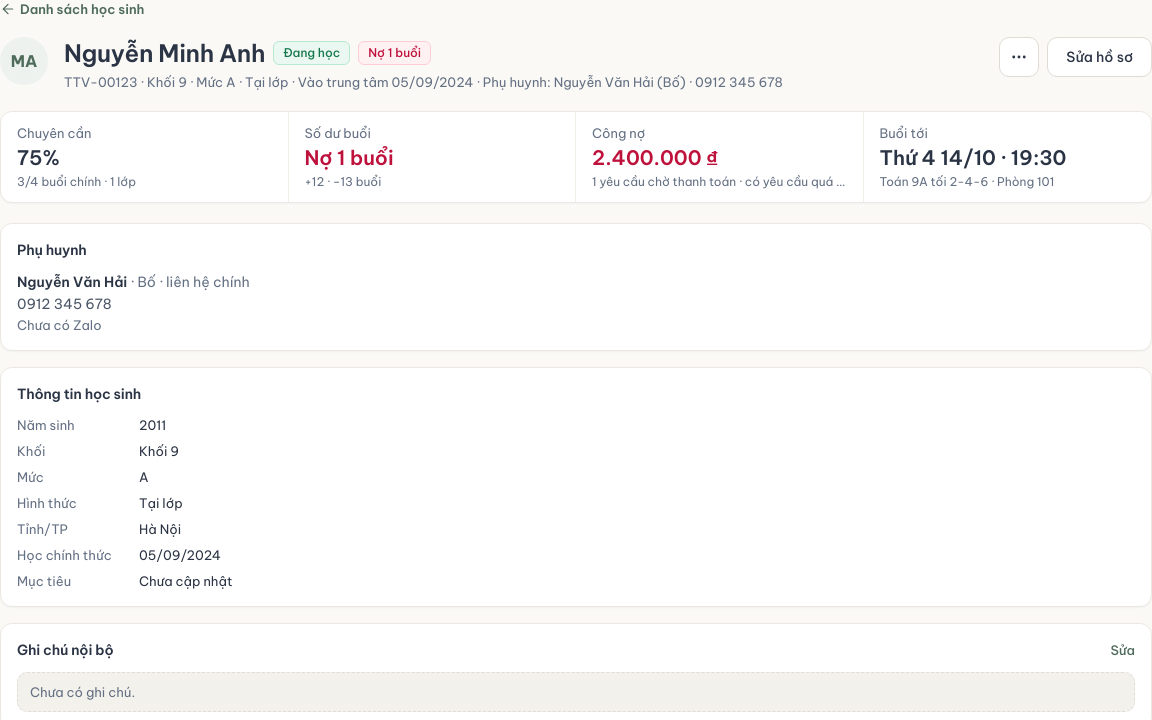
Test case: Student profile interactions (design 05) › submits Bảo lưu from the profile, keeps an error in the dialog and announces success in the header
This screenshot has width=1152, height=720.
Click the button named "Thêm hành động".
click(1019, 57)  # box [999,37,1039,77]
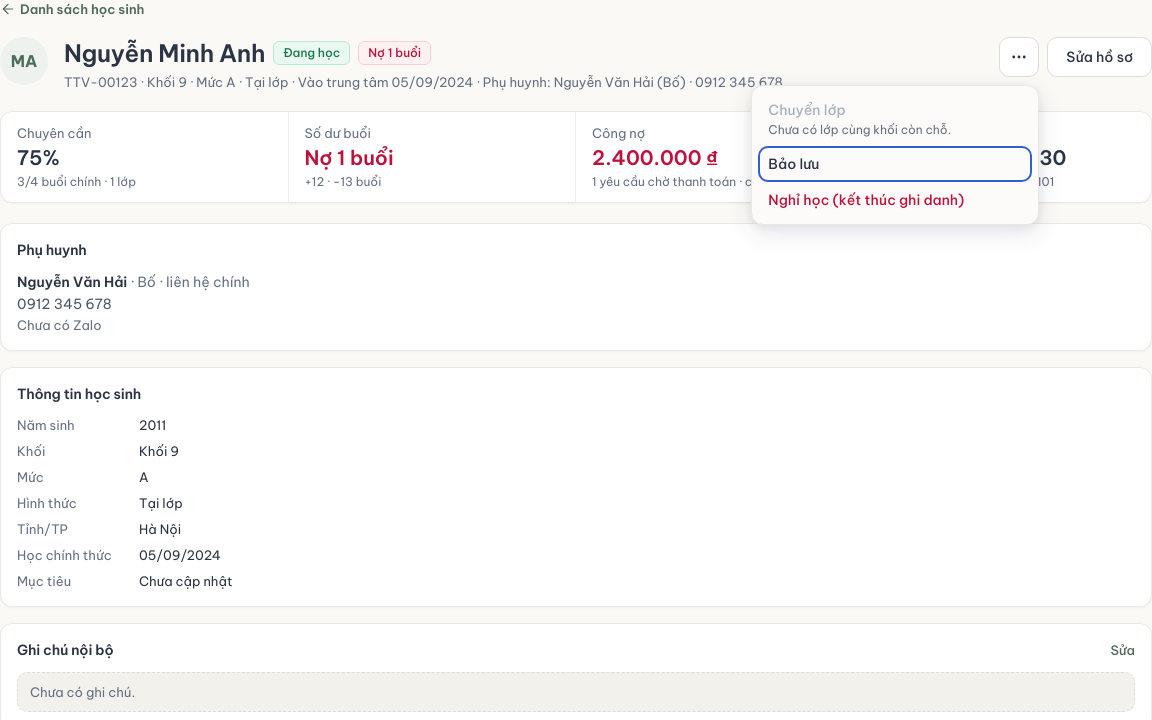
Click the menu item "Bảo lưu".
click(794, 164)  # box [758,146,1032,182]
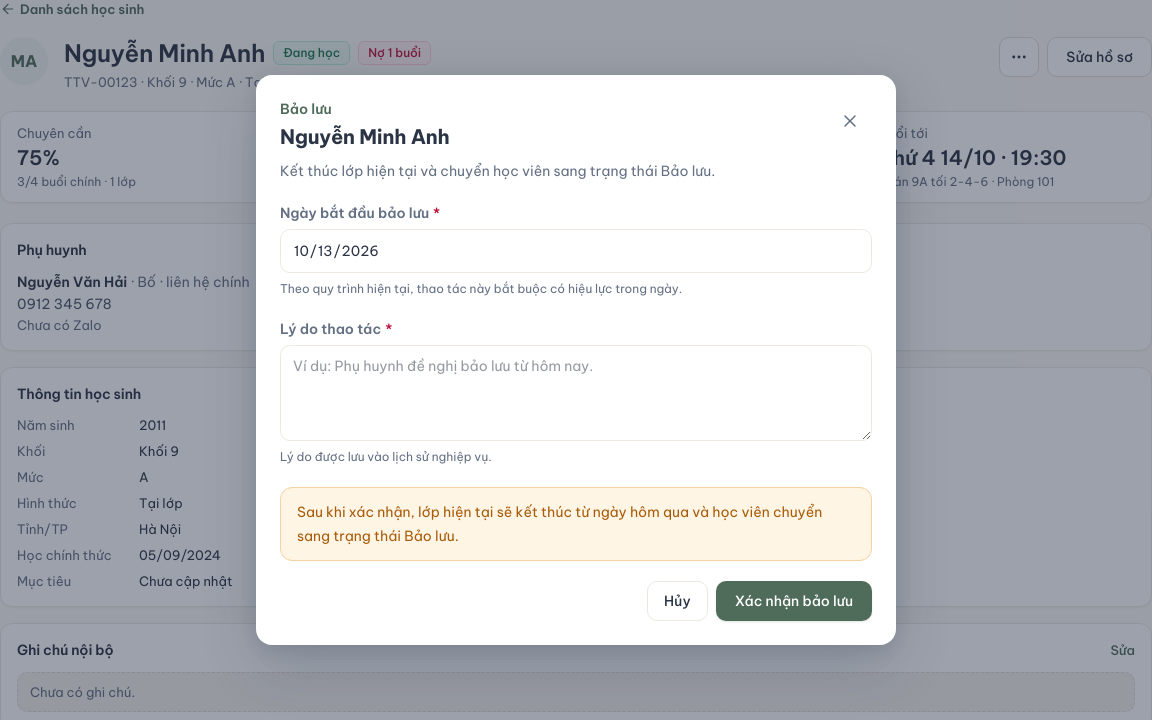
Type "Gia đình đi xa 2 tháng" into the text box labelled "Lý do thao tác*".
click(576, 393); type("Gia đình đi xa 2 tháng")  # box [280,345,872,441]
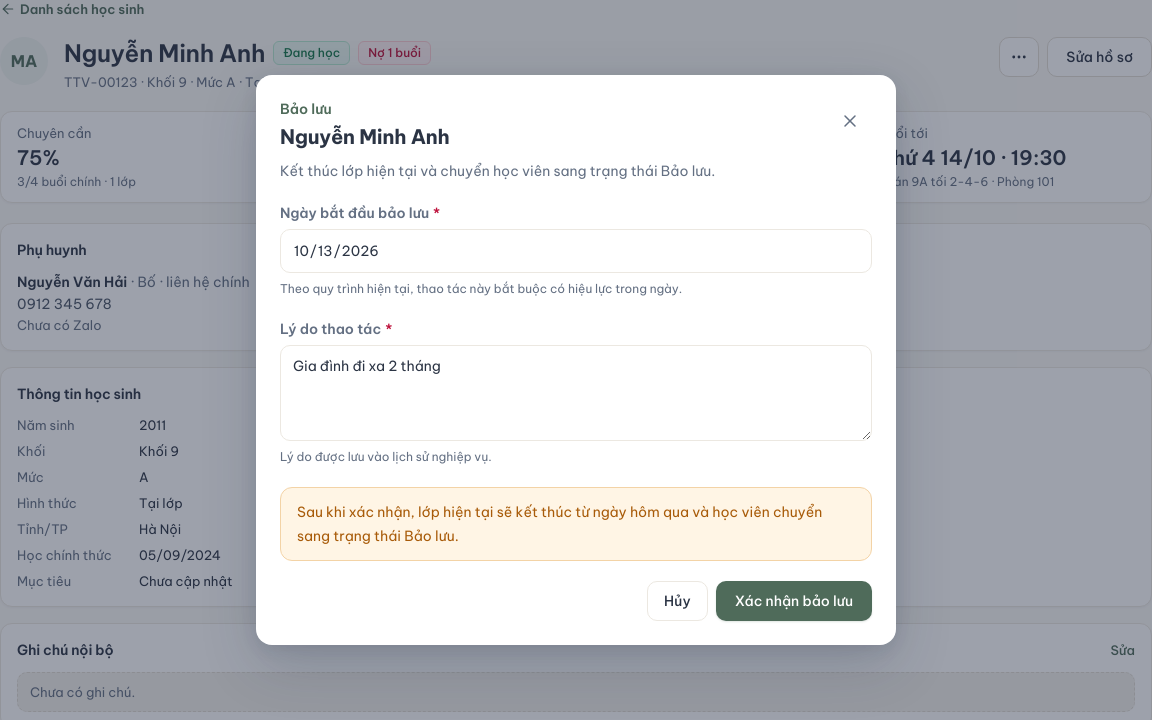
Click the button "Xác nhận bảo lưu".
click(794, 601)  # box [716,581,872,621]
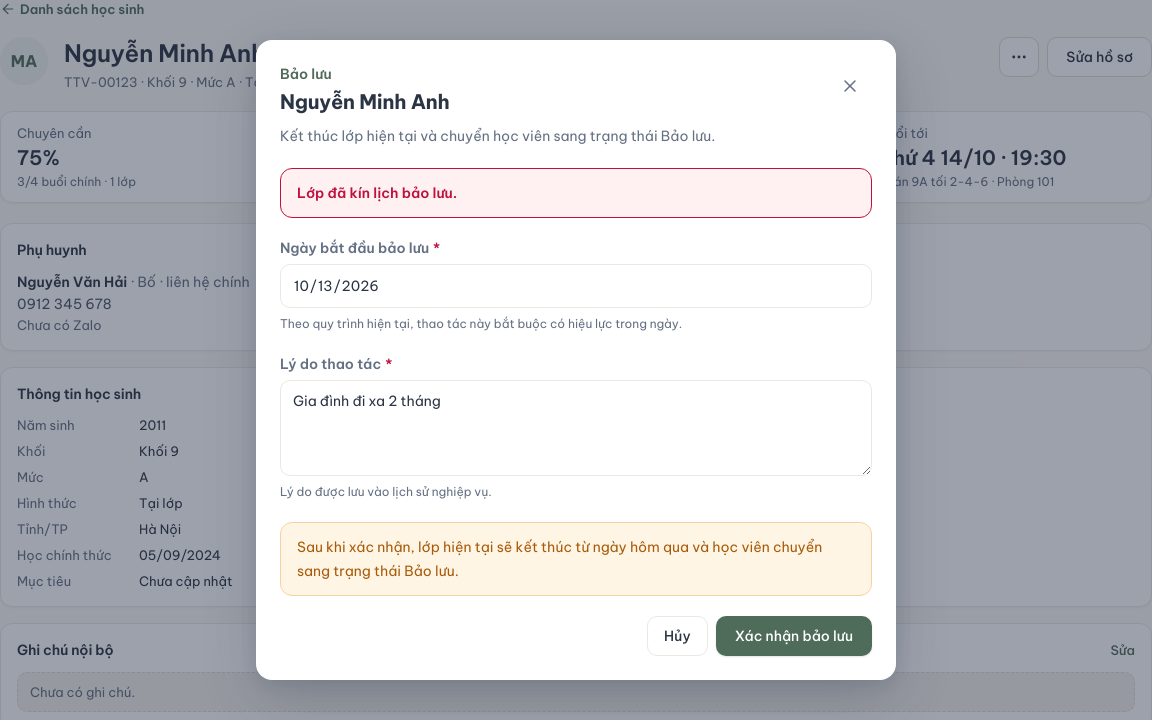
Expected: the message reads "Lớp đã kín lịch bảo lưu.", [297,184,457,202]
Click the button "Xác nhận bảo lưu".
click(794, 636)  # box [716,616,872,656]
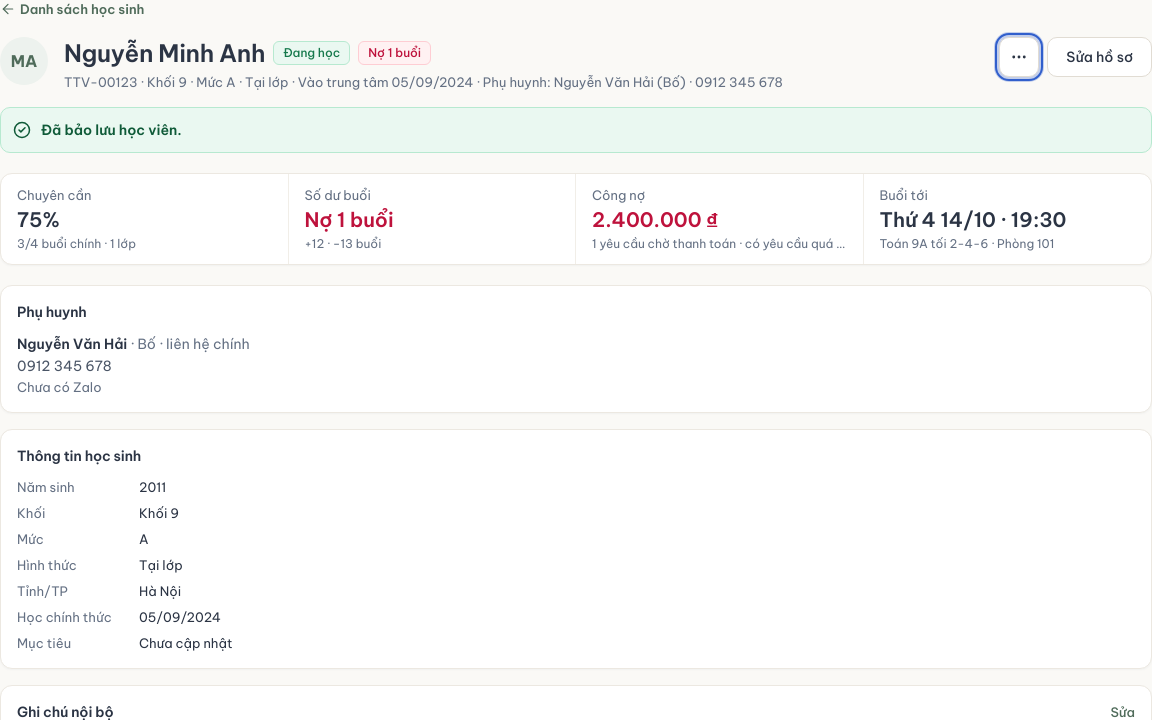
Expected: the dialog is gone
Expected: the text "Đã bảo lưu học viên." is shown, [41,121,182,139]
